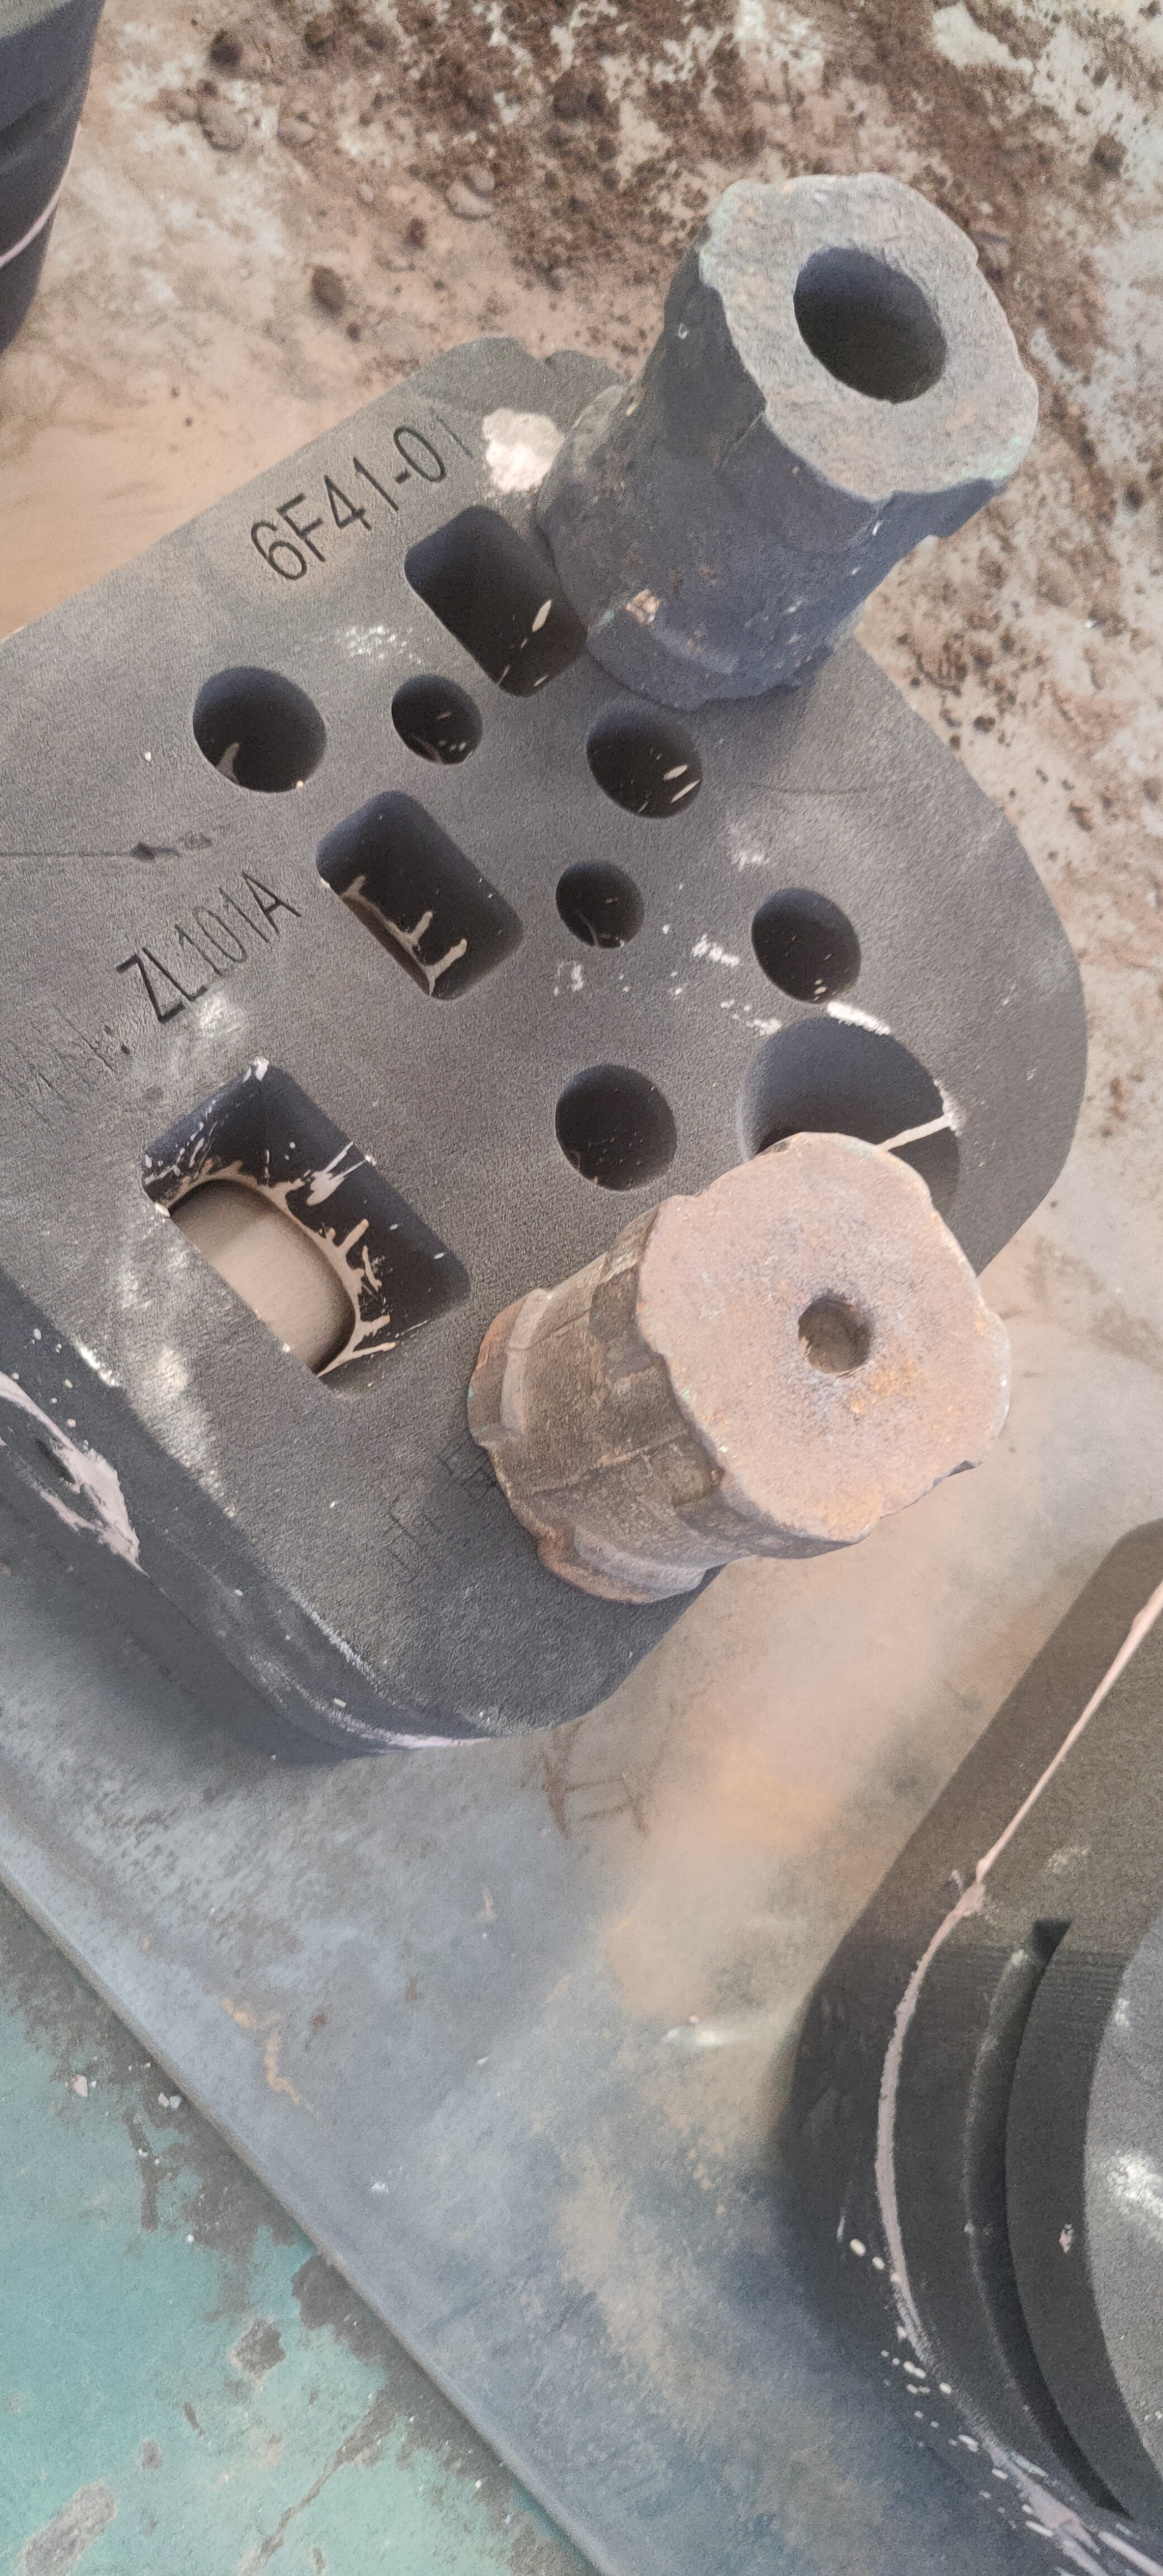pouring hole: (739, 1017, 963, 1235)
